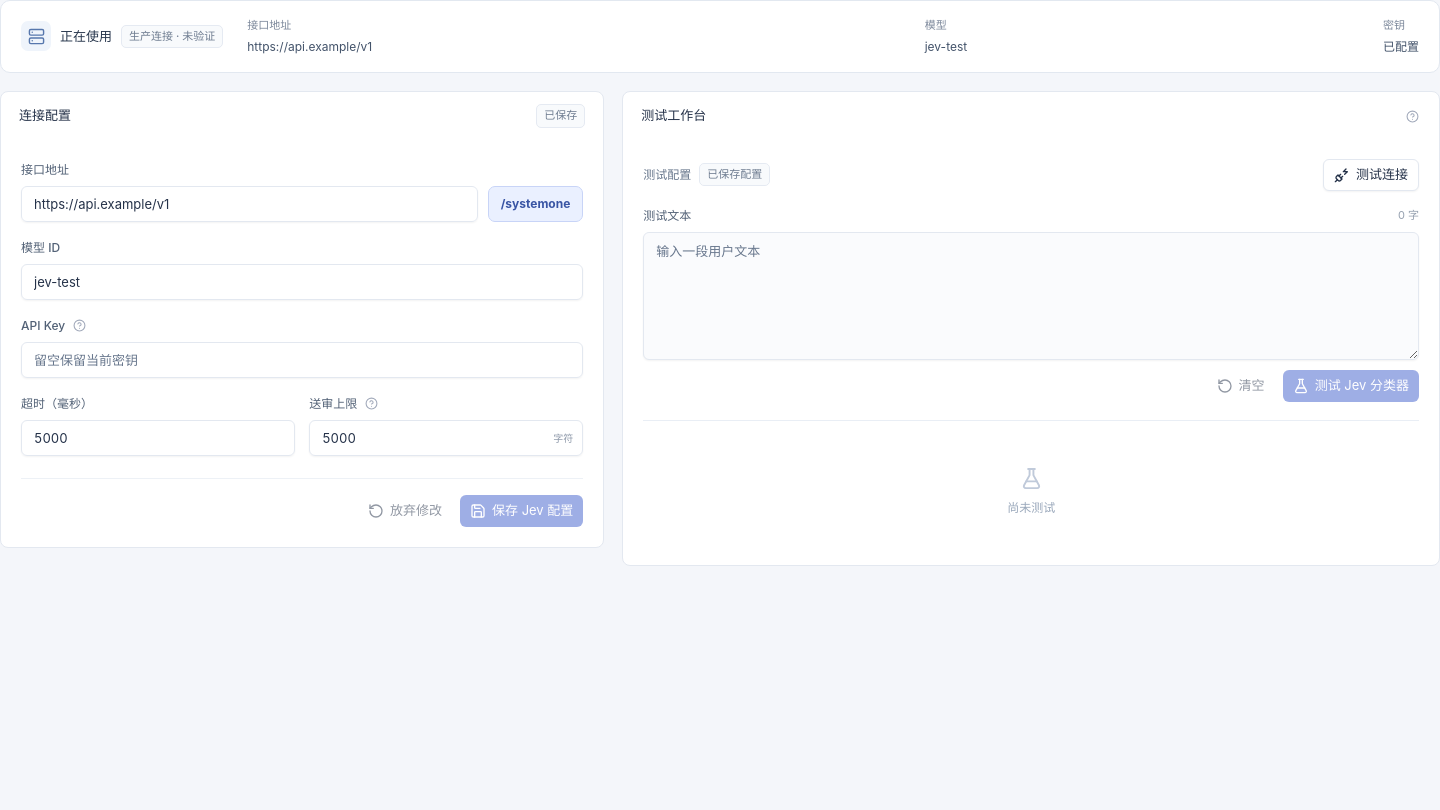
Test: tests an edited connection without saving it to production
Step 1. Replace the text in the field labelled "模型 ID" with "jev-new" → (302, 282), box [21,264,583,300]
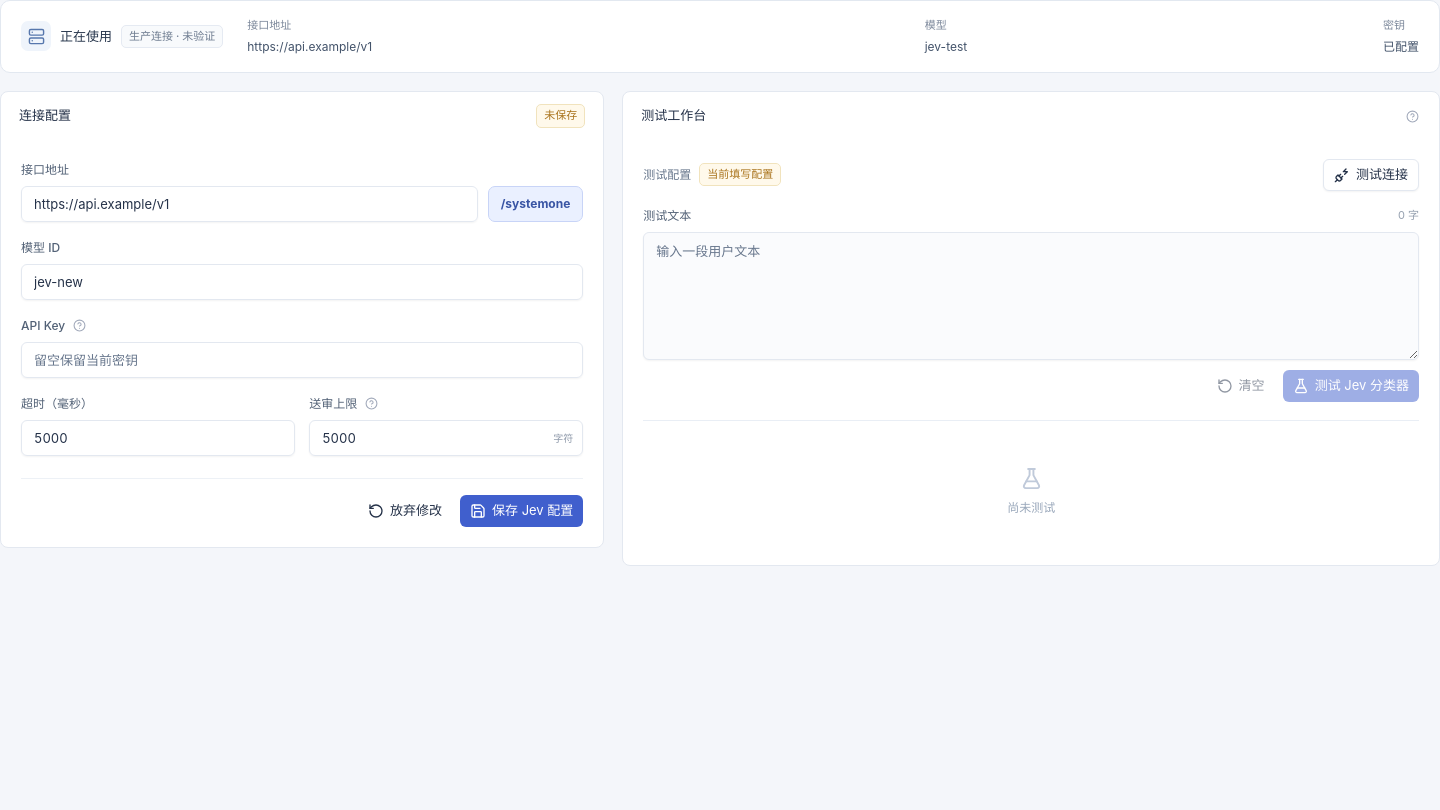
Step 2. Click the button "测试连接" → click(1371, 174), box [1323,158,1419,190]
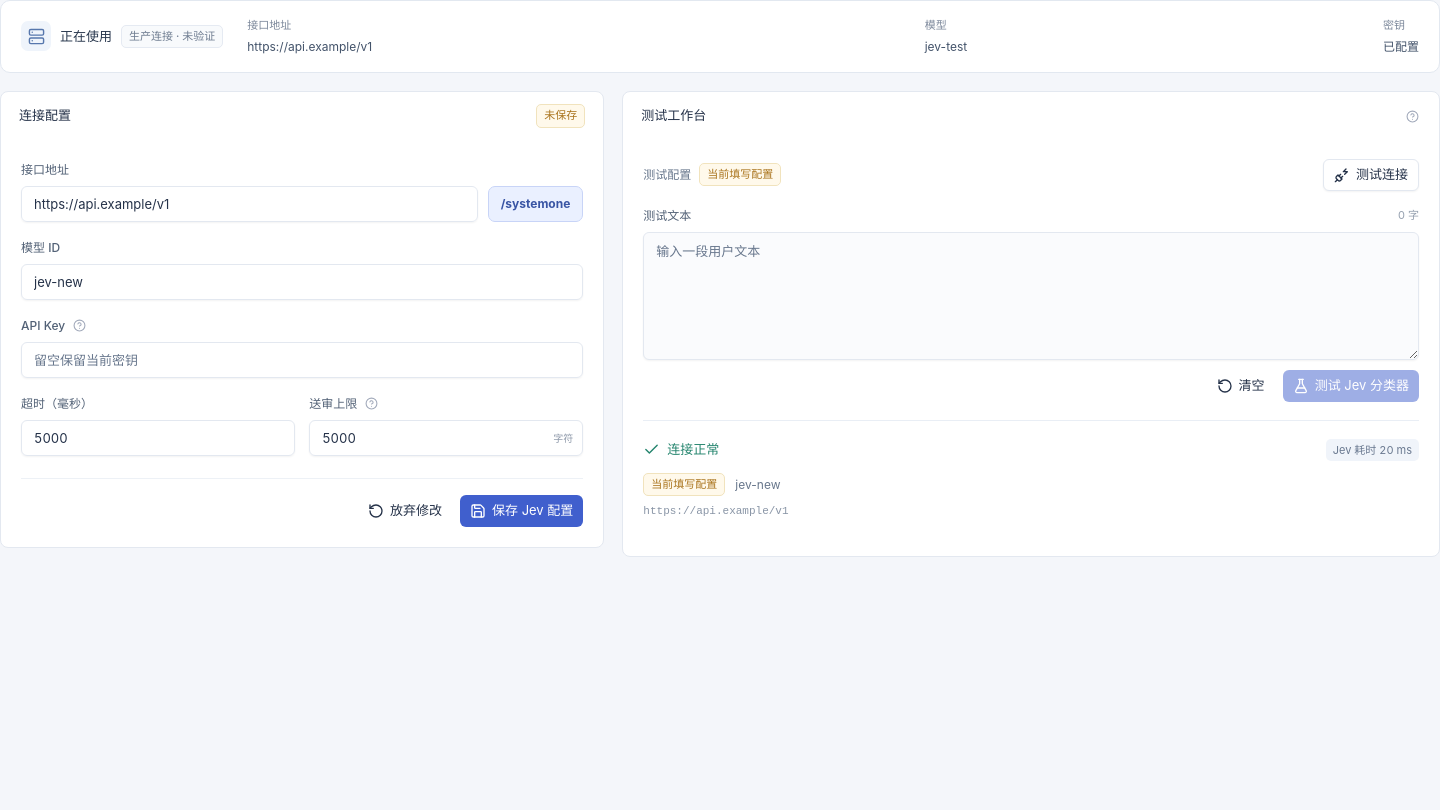
Result: the text "连接正常" is shown at [667,440,719,460]
